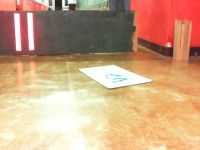switch: (26, 13, 35, 51), (13, 13, 21, 52)
